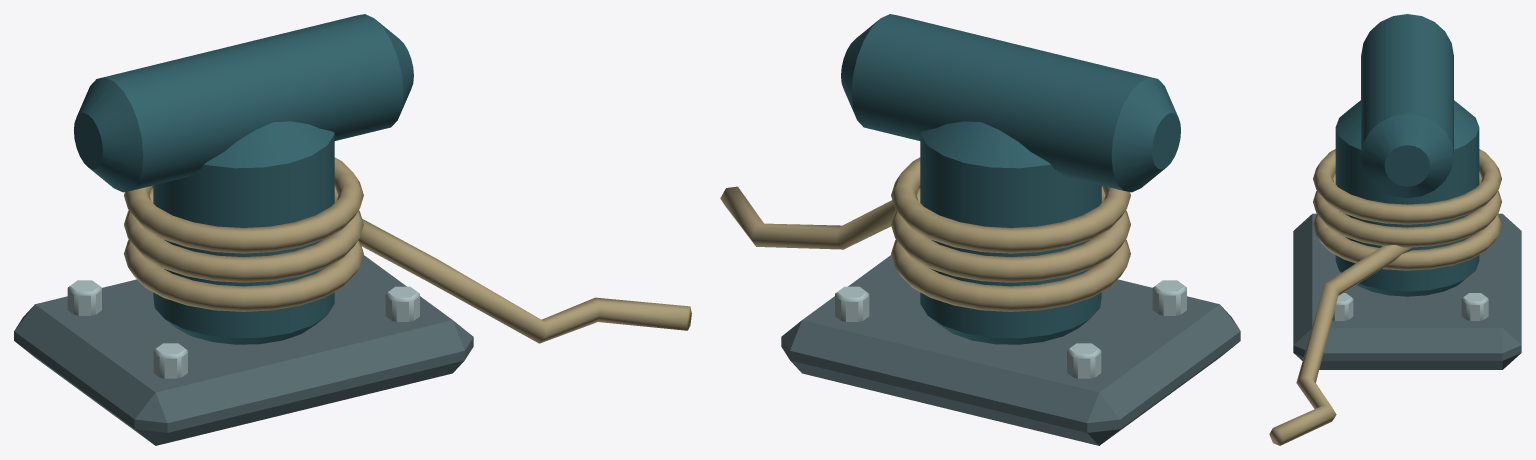
Rendered from mooring-bollard.glb.
The picture shows the model from 3 angles, left to right: view 1: azimuth 30°, elevation 25°; view 2: azimuth 150°, elevation 25°; view 3: azimuth 270°, elevation 25°; orthographic projection. The views are drawn at different scales.
Parts seen in each view (by area): view 1: Base plate, Cross head, Cast bollard, Loose line, Coiled dock line.002, Coiled dock line.001, Coiled dock line, Anchor bolt.001, Anchor bolt.003, Anchor bolt; view 2: Base plate, Cross head, Cast bollard, Coiled dock line.002, Coiled dock line.001, Coiled dock line, Loose line, Anchor bolt, Anchor bolt.002, Anchor bolt.001; view 3: Base plate, Cross head, Cast bollard, Loose line, Coiled dock line.002, Coiled dock line.001, Coiled dock line, Anchor bolt.002, Anchor bolt.003.
Part boxes in pixels (box(x1,y1,x2,y2)): Base plate: box(14, 255, 473, 445); Cross head: box(74, 14, 413, 192); Cast bollard: box(153, 121, 334, 344); Loose line: box(358, 219, 691, 343); Coiled dock line.002: box(124, 157, 363, 253); Coiled dock line.001: box(124, 188, 363, 282); Coiled dock line: box(124, 239, 363, 311); Anchor bolt.001: box(153, 343, 187, 378); Anchor bolt.003: box(385, 286, 419, 321); Anchor bolt: box(67, 280, 101, 315); Base plate: box(781, 255, 1240, 445); Cross head: box(841, 14, 1180, 192); Cast bollard: box(920, 121, 1101, 344); Coiled dock line.002: box(891, 157, 1130, 253); Coiled dock line.001: box(891, 188, 1130, 282); Coiled dock line: box(891, 239, 1130, 311); Loose line: box(720, 186, 895, 249); Anchor bolt: box(1067, 343, 1101, 378); Anchor bolt.002: box(835, 286, 869, 321); Anchor bolt.001: box(1152, 280, 1186, 315); Base plate: box(1293, 213, 1521, 369); Cross head: box(1361, 14, 1453, 198); Cast bollard: box(1335, 100, 1479, 296); Loose line: box(1269, 245, 1412, 445); Coiled dock line.002: box(1313, 149, 1501, 224); Coiled dock line.001: box(1313, 173, 1501, 247); Coiled dock line: box(1313, 213, 1501, 270); Anchor bolt.002: box(1461, 293, 1488, 320); Anchor bolt.003: box(1332, 293, 1353, 320).
Size of the model in its own units: 1.16 by 0.65 by 0.5969.
